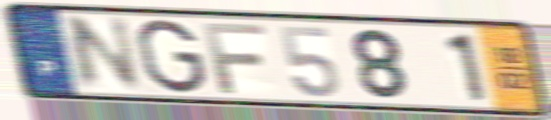1: (444, 31, 489, 104)
5: (275, 24, 342, 100)
8: (349, 26, 411, 101)
F: (200, 21, 270, 96)
G: (134, 17, 209, 96)
N: (63, 14, 146, 93)
